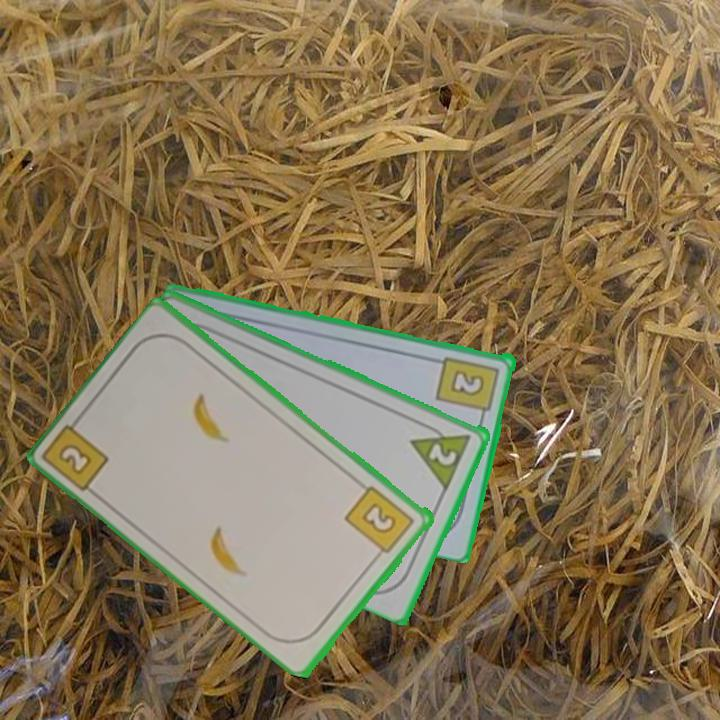2b: (342, 482, 418, 563), (42, 410, 113, 494), (434, 352, 503, 423)
2p: (407, 417, 475, 491)
